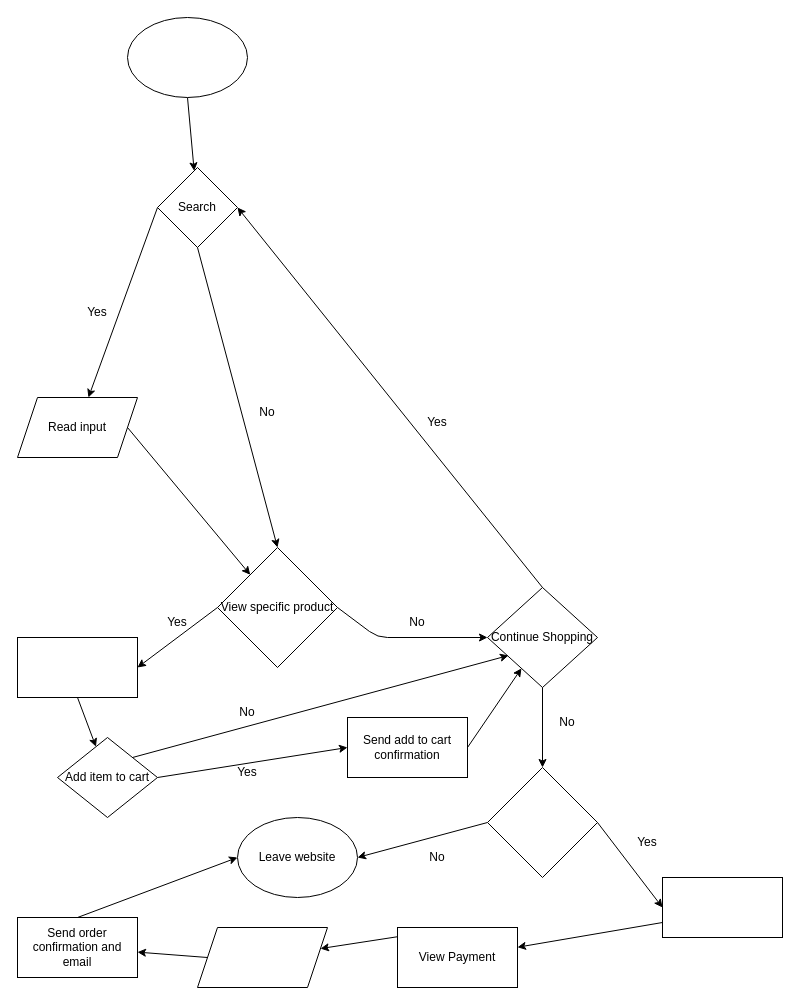
Some shapes in this 800 by 1005 pixel diagram are drawn without their labels. The shapes that lost their labels are listed below. From the top down, each one's centre as x and y in pixels, then its label:
At [187,57]: "User enters website".
At [77,667]: "Webpage opens".
At [542,822]: "Checkout".
At [722,907]: "View Cart".
At [262,957]: "Get payment input".
